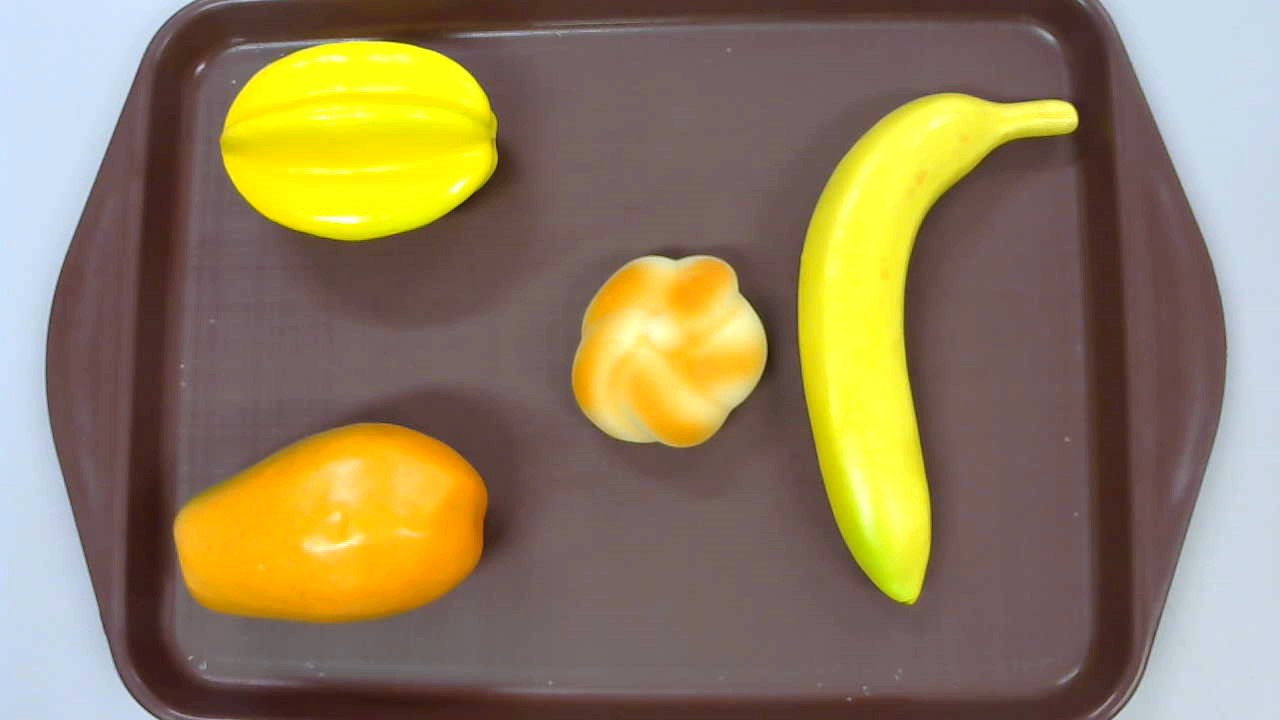banana: (796, 93, 1078, 607)
papya: (171, 422, 488, 624)
star fruit: (219, 41, 499, 241)
twist bread: (572, 254, 767, 450)
